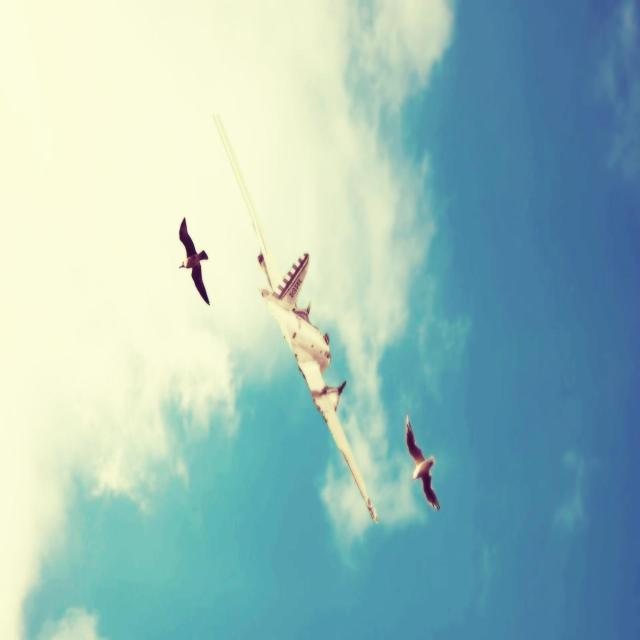airplane: (212, 112, 380, 524)
